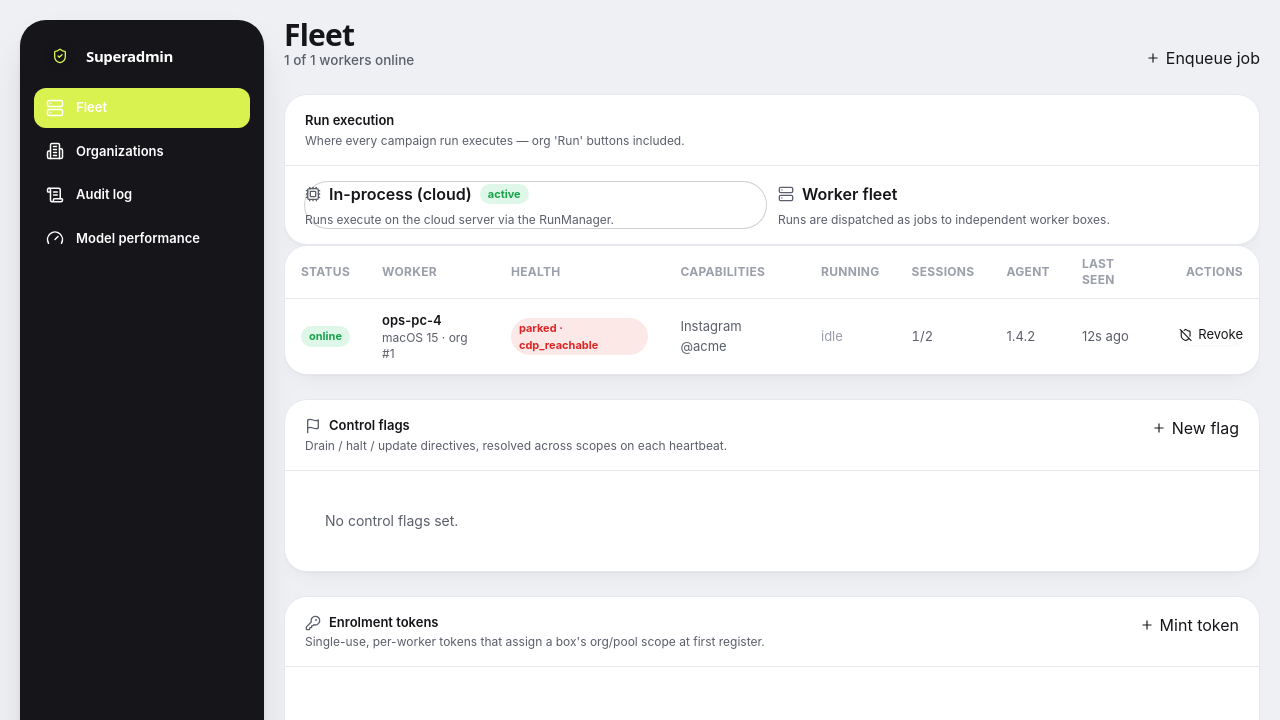
fleet actions › an unknown row says "could not check" and offers no misleading remedy
Expected: the text "ops-pc-4" is shown, [382,312,442,328]
Click the button "parked · cdp_reachable" at (580, 336), box [511,318,648,355]
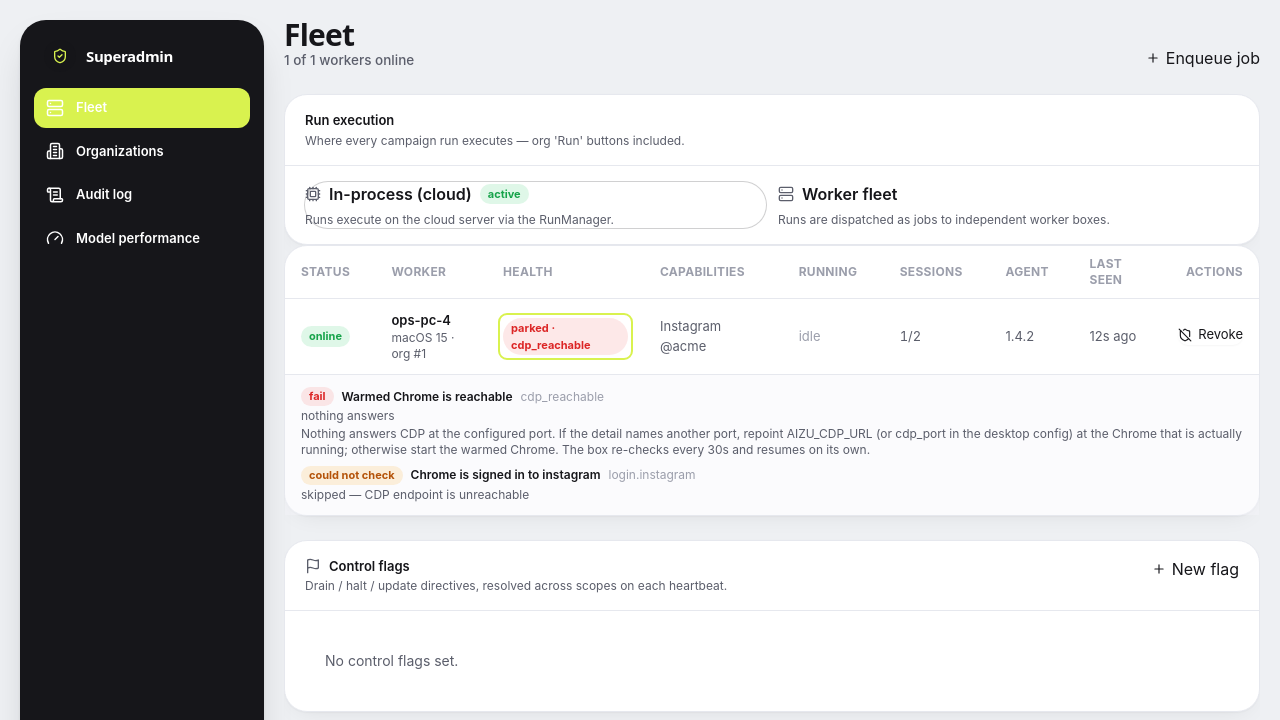
Expected: the text "could not check" is shown, [301,466,402,485]
Expected: the text "repoint AIZU_CDP_URL" is shown, [301,426,1242,457]
